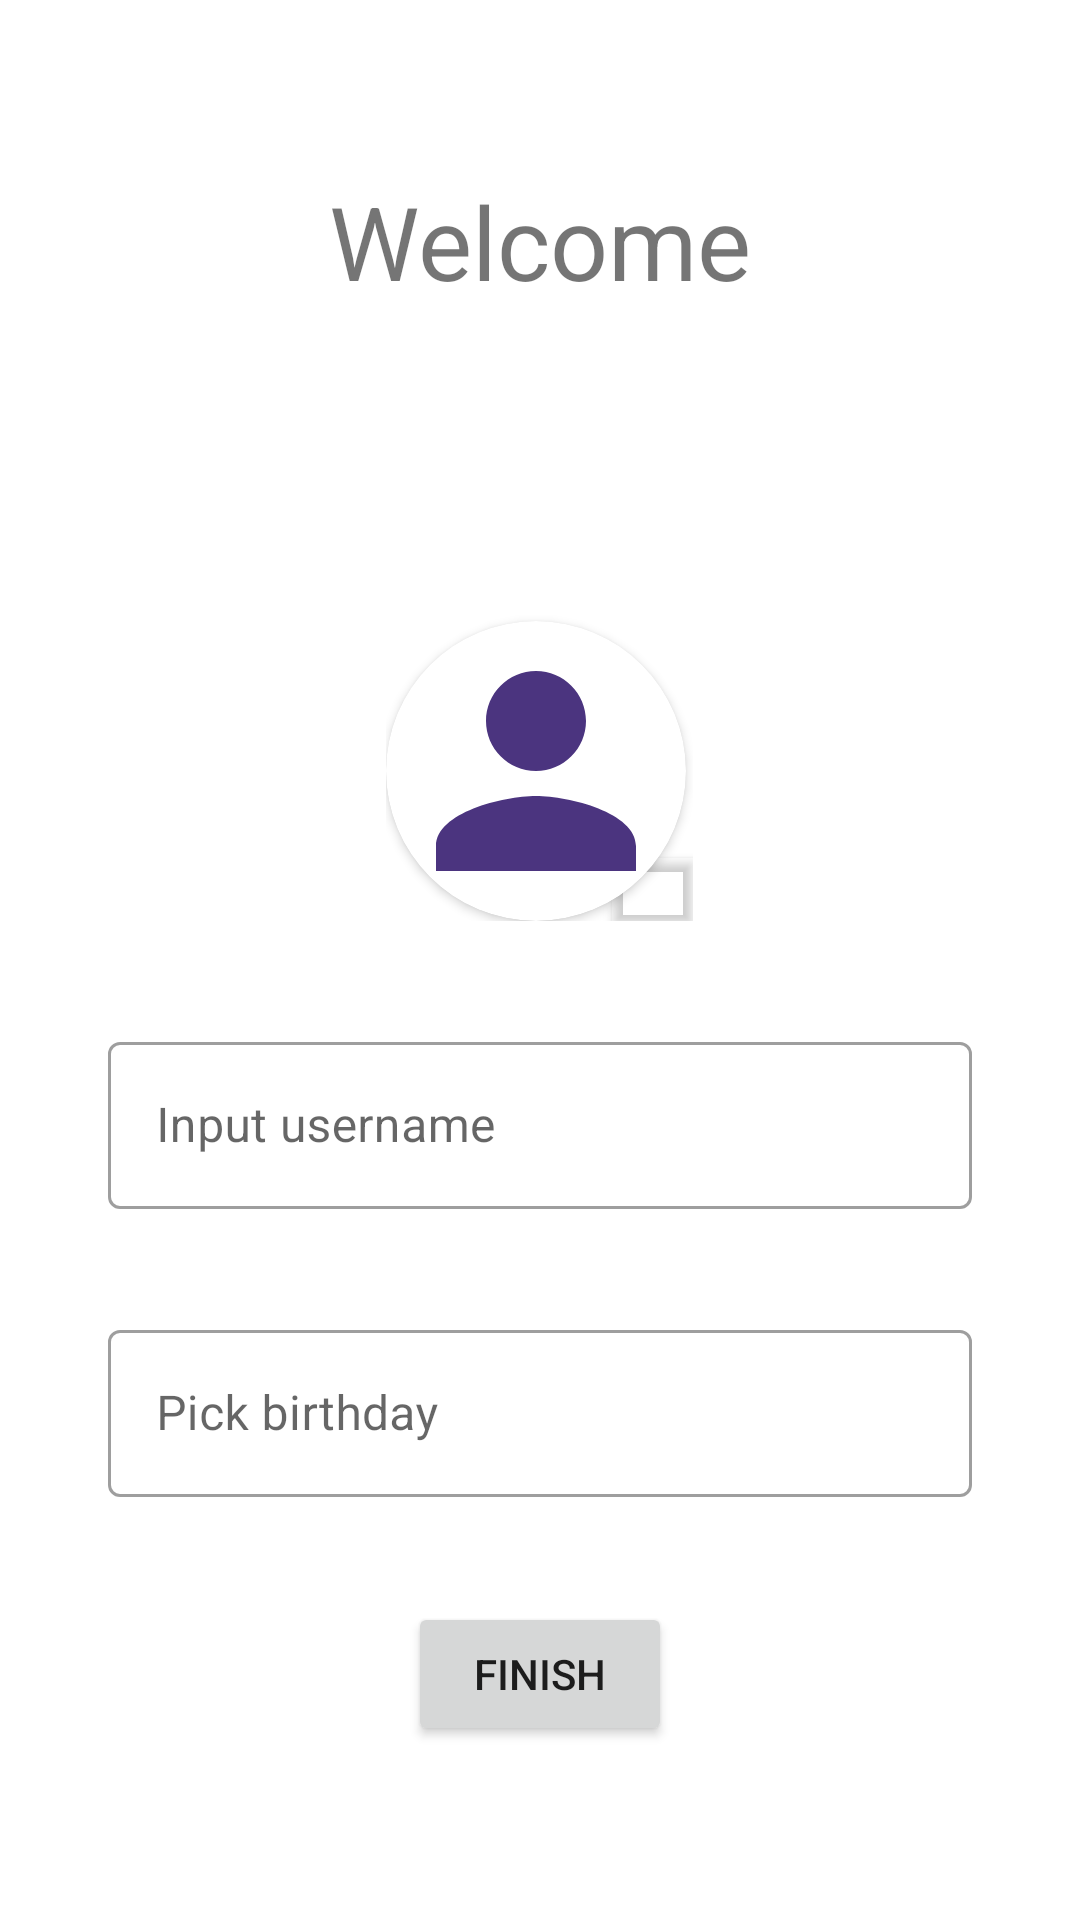

Locate icon controls on the screen. Image size 1080x1920, boxes as box(x1, y1, x2, y2).
profile: box(387, 671, 686, 921)
